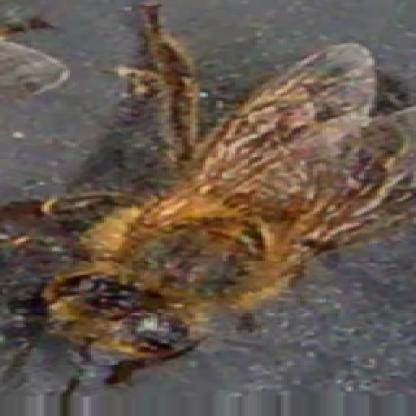bee: (39, 54, 416, 358)
